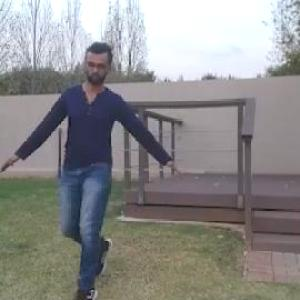land: (26, 48, 161, 281)
